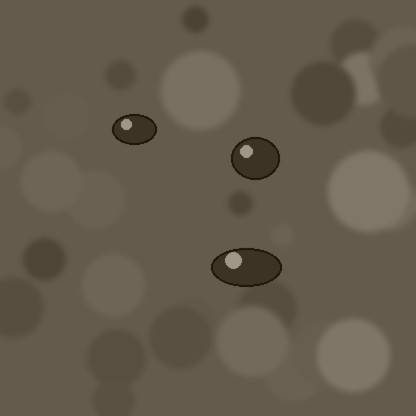gota: (211, 249, 281, 289), (231, 139, 279, 183), (112, 115, 156, 147)
